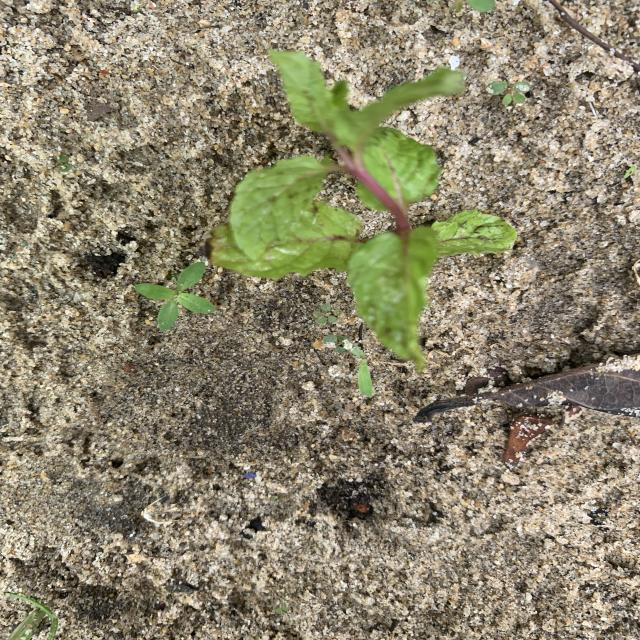crop: (214, 51, 515, 370)
weed: (135, 262, 215, 330), (8, 593, 57, 639), (346, 343, 373, 397), (487, 80, 529, 104), (315, 305, 339, 323), (457, 0, 495, 11), (56, 155, 71, 171), (624, 166, 635, 177)
